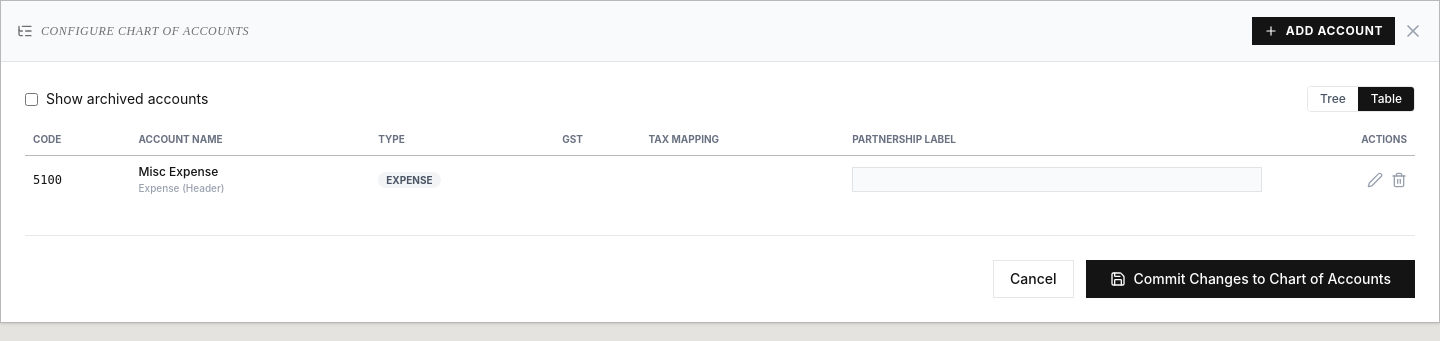
AccountManager › Phase 9 UX-06 — AccountManager passes anomaly filter props to CoaTreeView › A.1: filterMissingMappings=true — anomaly-filter-banner rendered inside tree view
The image size is (1440, 341).
What coordinates should you click on to do the following:
click the button with test id "view-mode-tree"
I would click on:
 (1333, 99)
Its box is [1308, 87, 1358, 111].
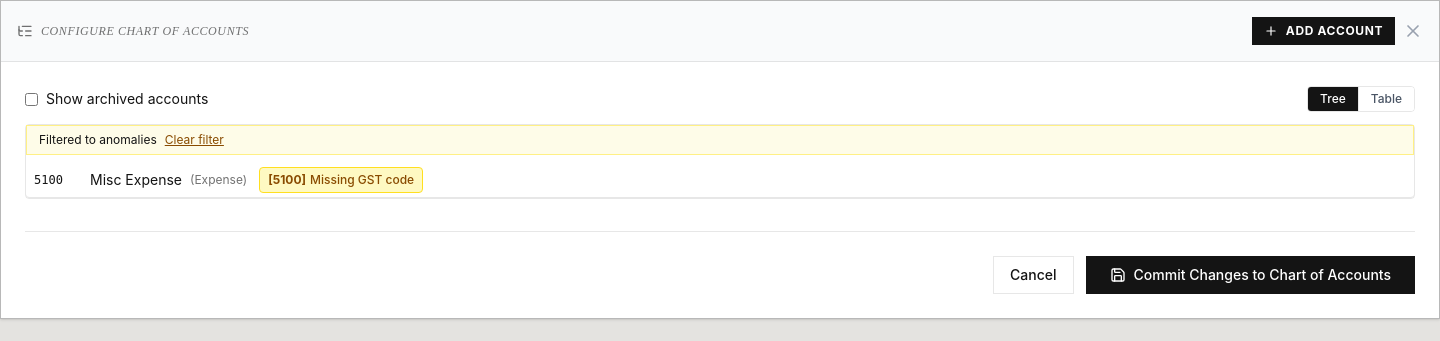
Expected: the element with test id "anomaly-filter-banner" is shown, [26, 125, 1414, 155]
